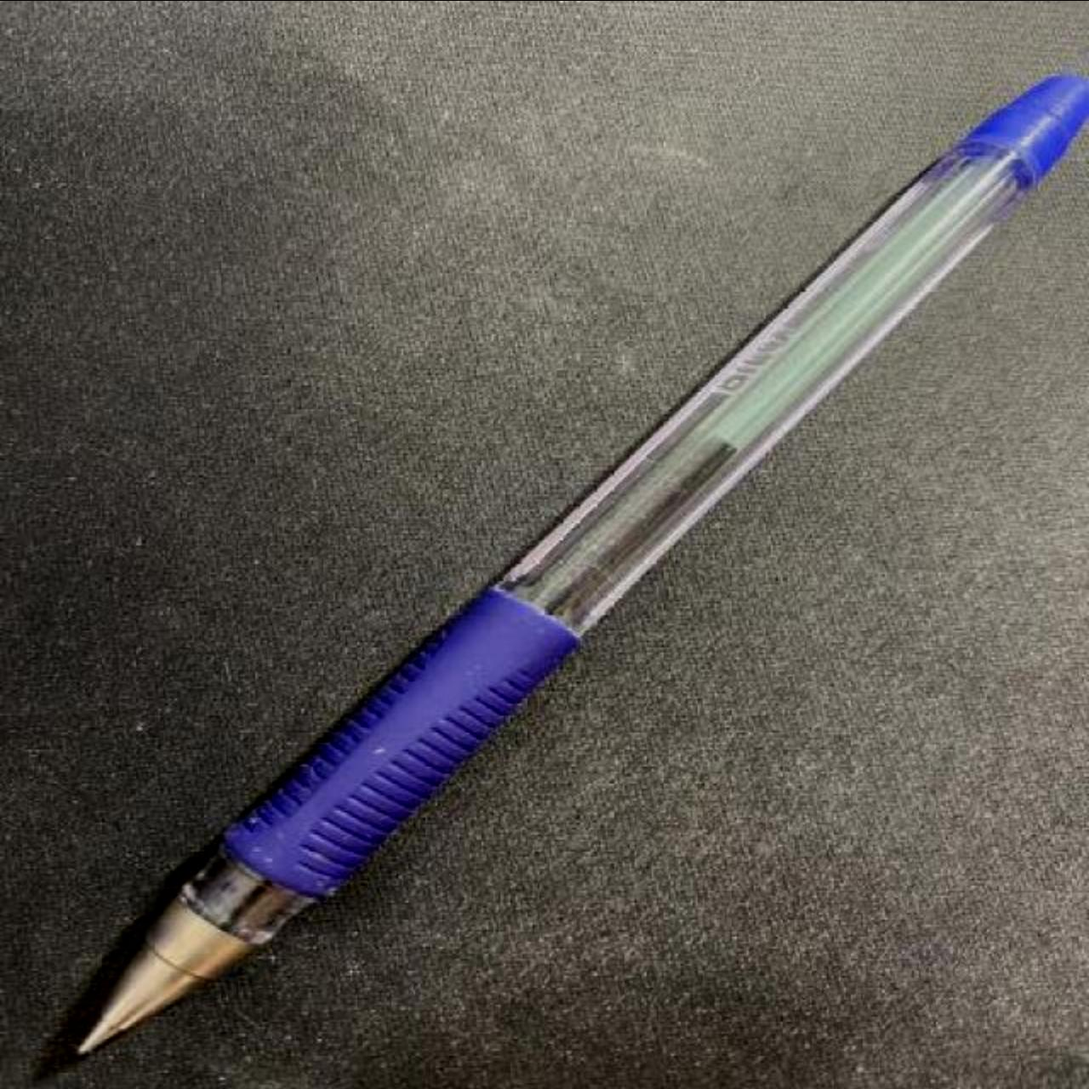pen: (73, 77, 1089, 1058)
